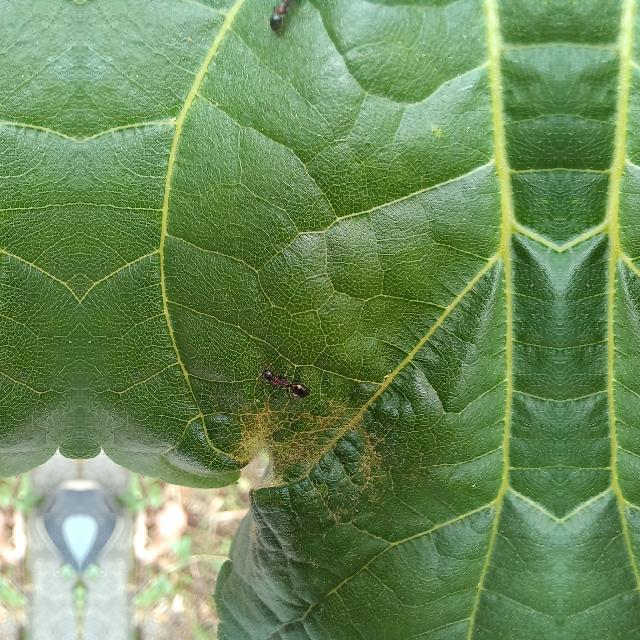Dolichoderus: (254, 352, 316, 404), (266, 0, 302, 34)
